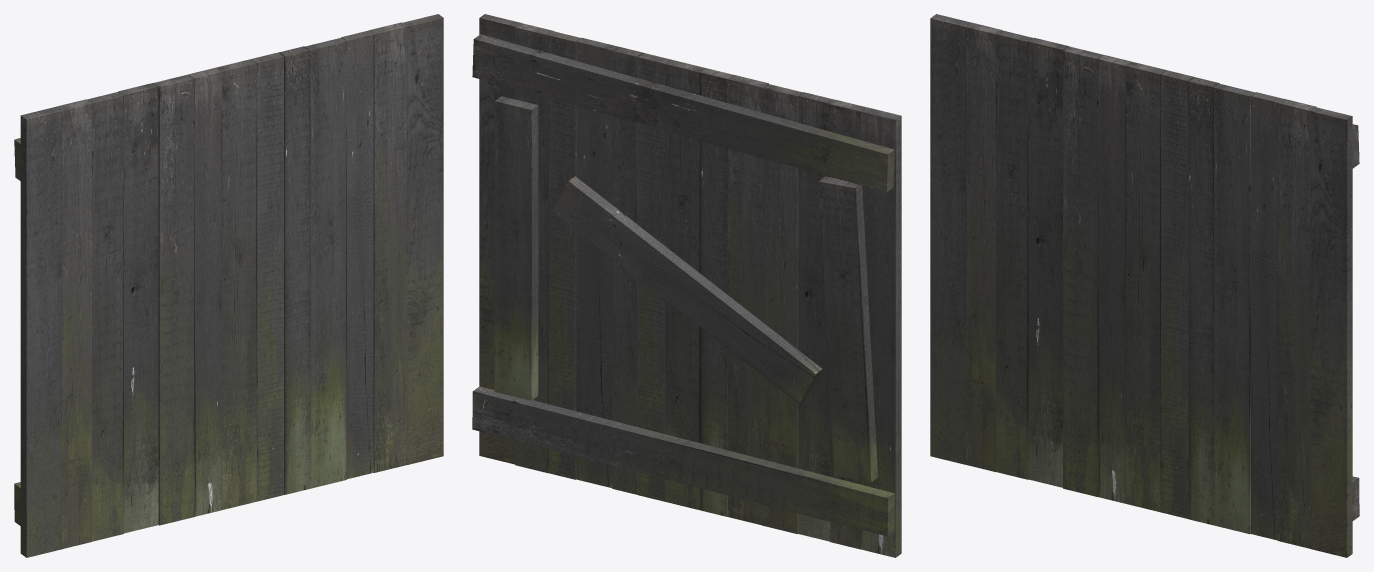
File: RottenSmallWoodenWall 3m.fbx
3 renders of one model, left to right at view 1: azimuth 30°, elevation 25°; view 2: azimuth 150°, elevation 25°; view 3: azimuth 330°, elevation 25°, orthographic.
Parts seen in each view (by area): view 1: RottenSmallWoodenWall_3m; view 2: RottenSmallWoodenWall_3m; view 3: RottenSmallWoodenWall_3m.
Part boxes in pixels (left/top/right/bottom): RottenSmallWoodenWall_3m: left=14, top=14, right=443, bottom=557; RottenSmallWoodenWall_3m: left=472, top=14, right=901, bottom=557; RottenSmallWoodenWall_3m: left=930, top=14, right=1359, bottom=557.
Bounding box in the file's own units: 3 × 3.01 × 0.1628.
